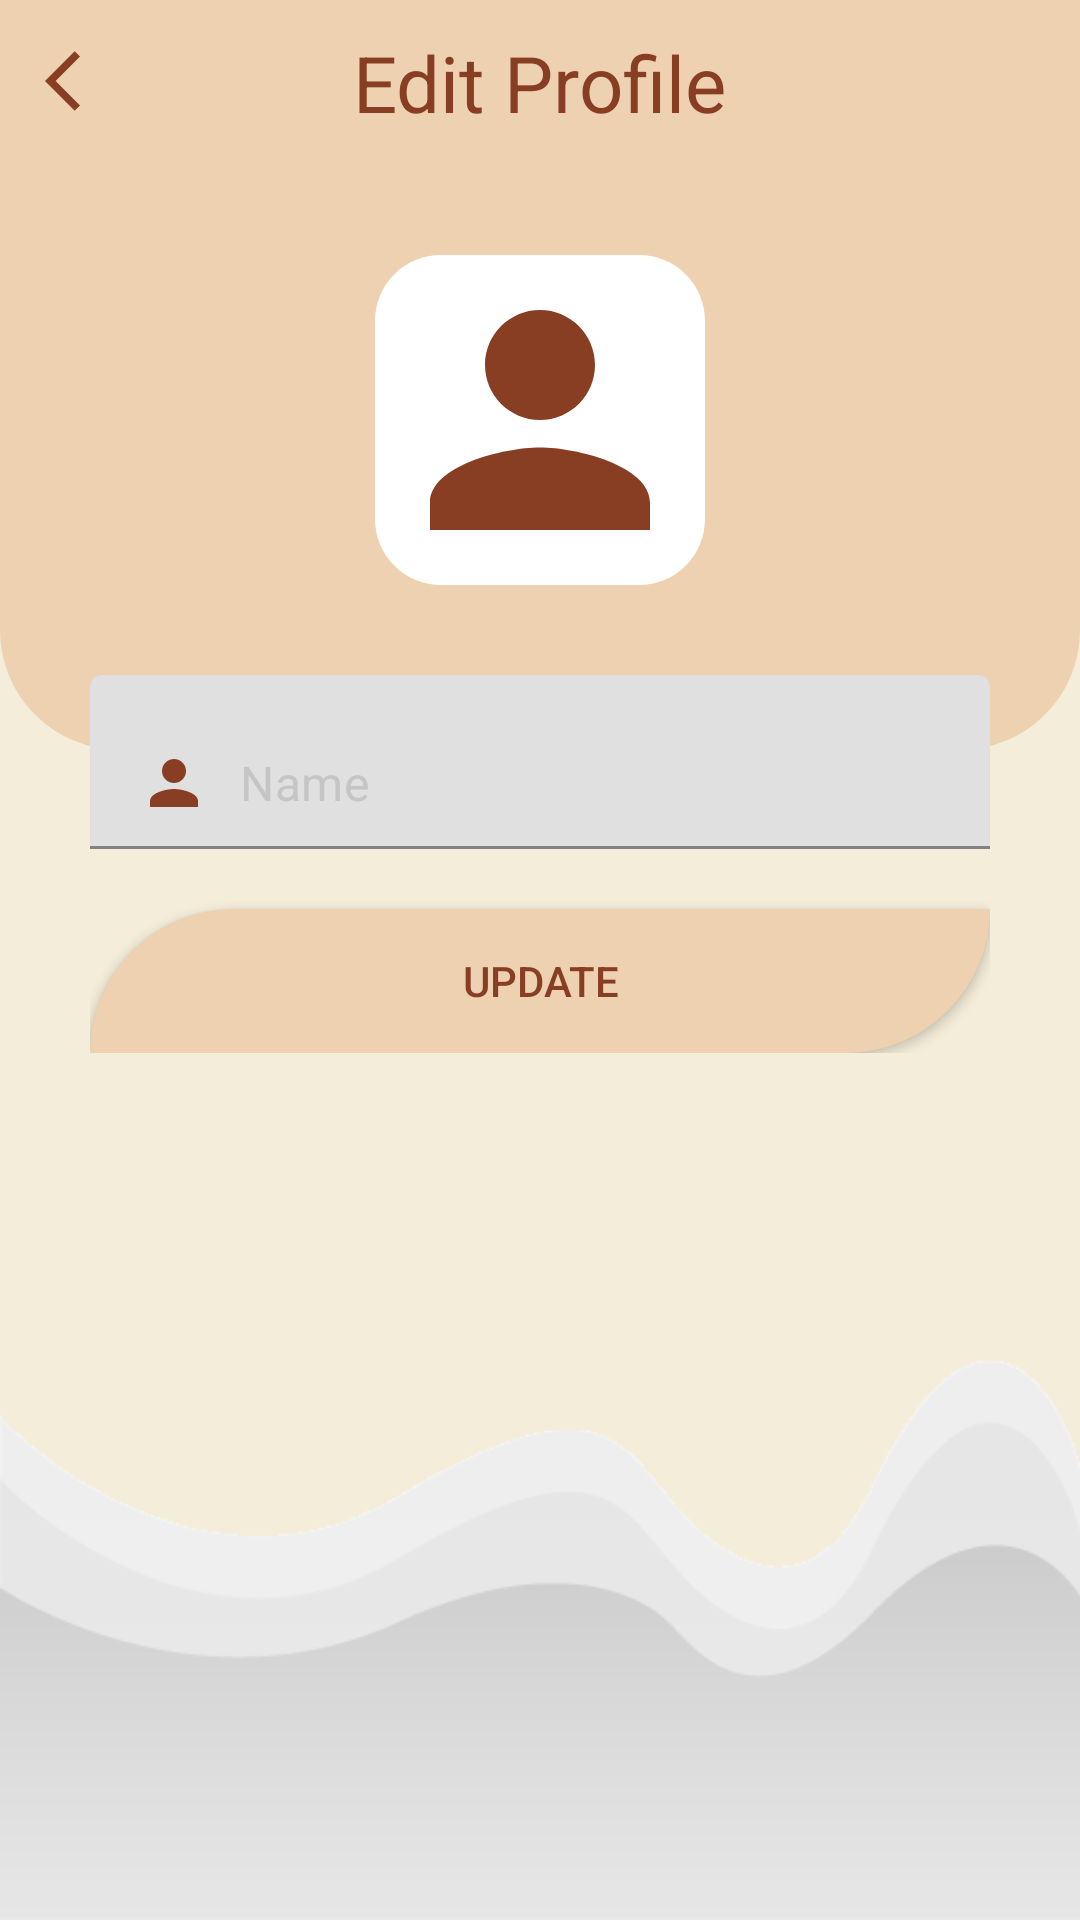

Icons on this 1080×1920 Android screen, each with the point to tap as point (x, y):
arrow back: point (62, 81)
person: point (540, 420)
